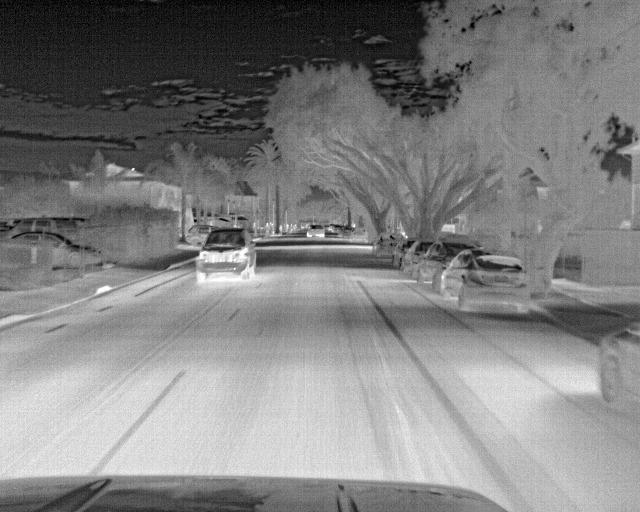car: (438, 250, 552, 319), (596, 318, 639, 414), (5, 232, 107, 269), (194, 225, 256, 285), (418, 241, 472, 293), (5, 217, 84, 243), (397, 240, 429, 279), (371, 232, 399, 262), (394, 238, 415, 270), (304, 224, 330, 239), (348, 226, 368, 242)
